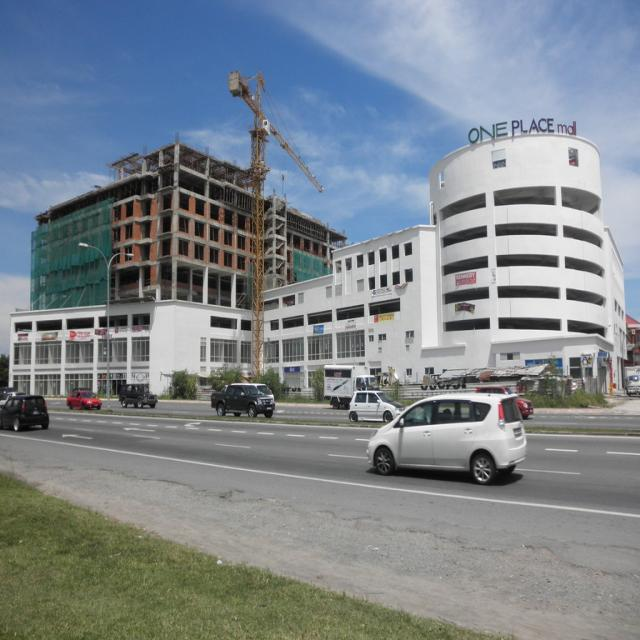car: (365, 390, 526, 482), (118, 383, 157, 407), (66, 389, 101, 411)
